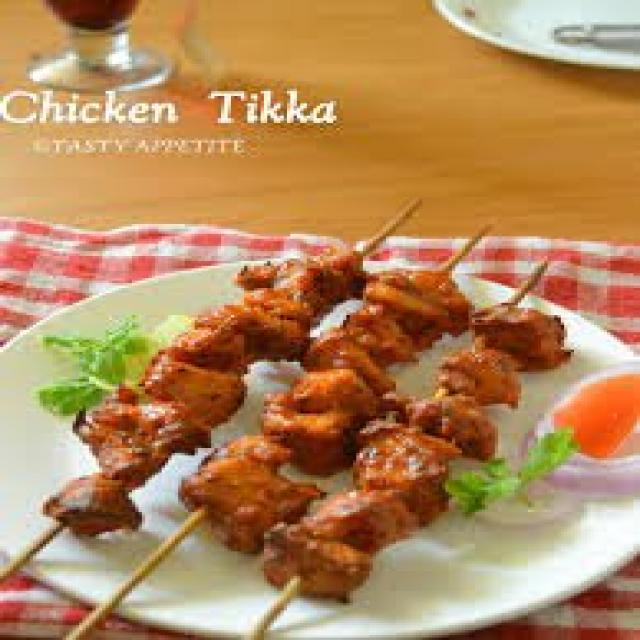Chicken Tikka: (40, 247, 572, 606)
